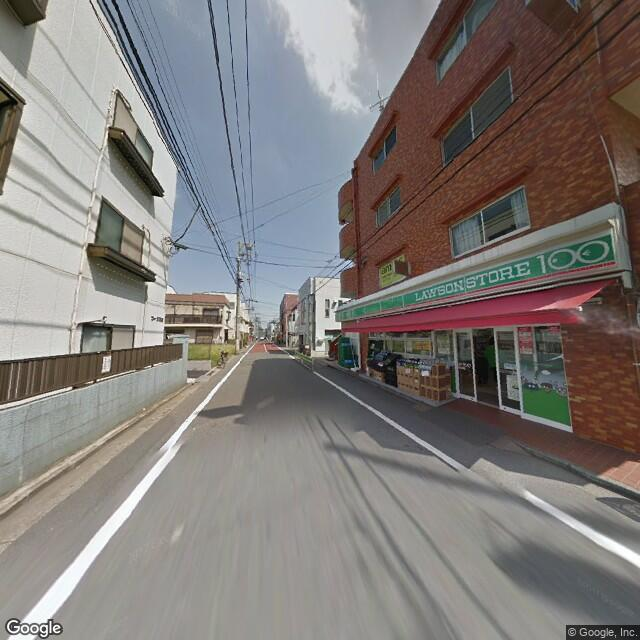lawson: (345, 219, 621, 323)
